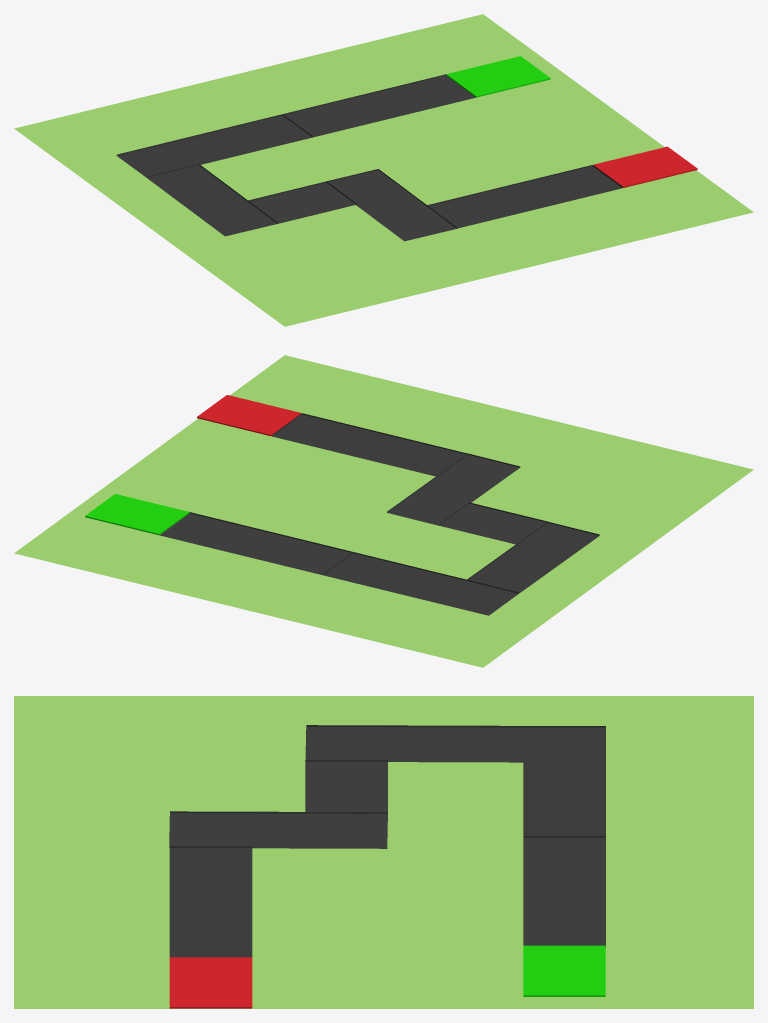
File: Terain Asu.fbx
The picture shows the model from 3 angles, top to bottom: view 1: azimuth 30°, elevation 25°; view 2: azimuth 150°, elevation 25°; view 3: azimuth 270°, elevation 25°; orthographic projection. The views are drawn at different scales.
Visible parts, largest first — view 1: Plane.008; view 2: Plane.008; view 3: Plane.008.
Boxes of the visible parts, left/top/right/bottom form: Plane.008: left=14, top=14, right=753, bottom=326; Plane.008: left=14, top=355, right=753, bottom=667; Plane.008: left=14, top=696, right=753, bottom=1008.
Size of the model in its own units: 909 by 3.37 by 908.
